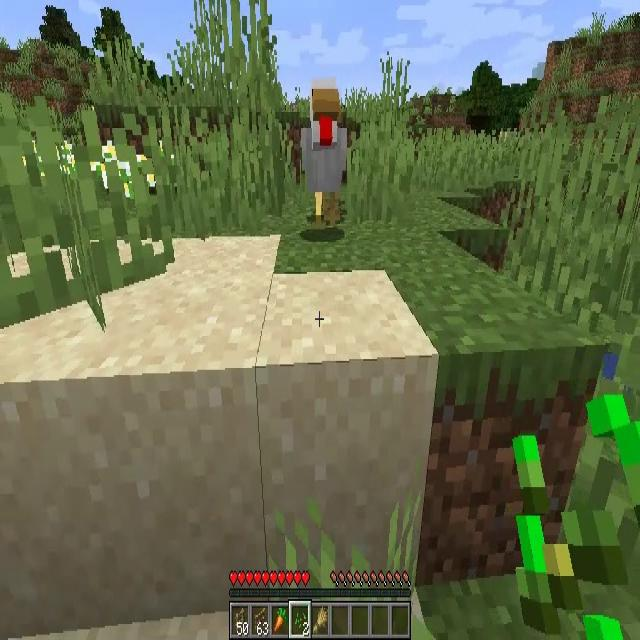duck: (300, 87, 347, 231)
